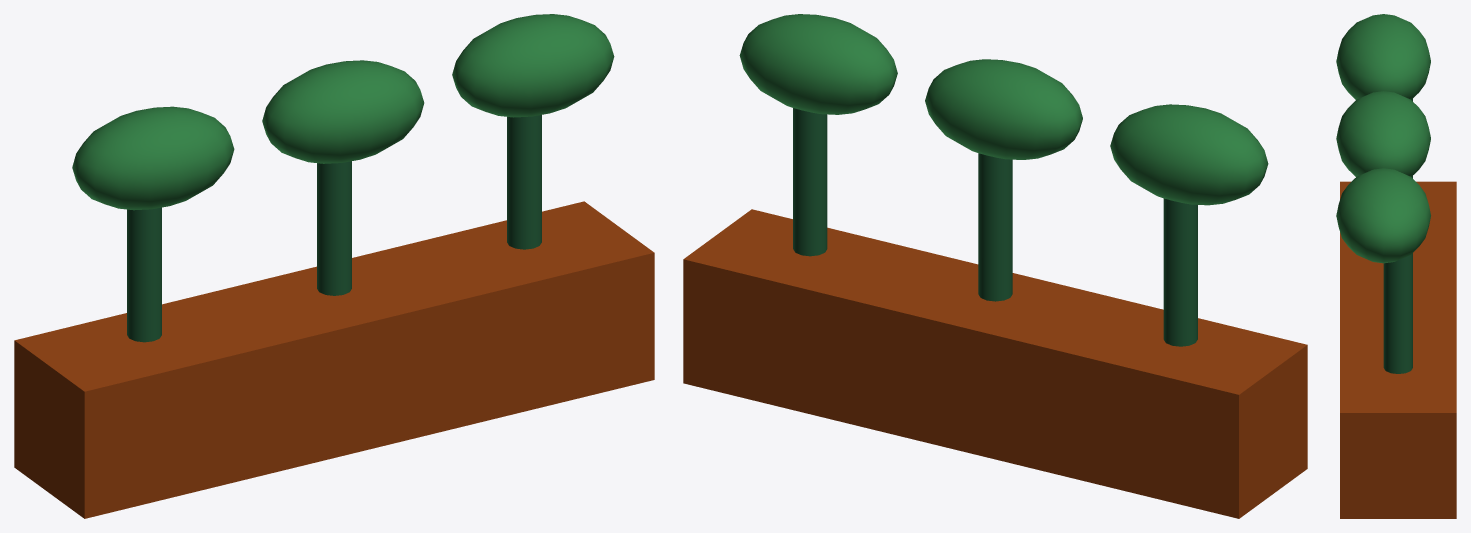
The picture shows the model from 3 angles, left to right: view 1: azimuth 30°, elevation 25°; view 2: azimuth 150°, elevation 25°; view 3: azimuth 270°, elevation 25°; orthographic projection. The views are drawn at different scales.
Parts seen in each view (by area): view 1: wall-planter; view 2: wall-planter; view 3: wall-planter.
Boxes of the visible parts, box(x1,y1,x2,y2) form: wall-planter: box(14, 14, 654, 518); wall-planter: box(683, 14, 1307, 518); wall-planter: box(1336, 14, 1456, 518).
Bounding box in the file's own units: 0.75 × 0.455 × 0.165.
